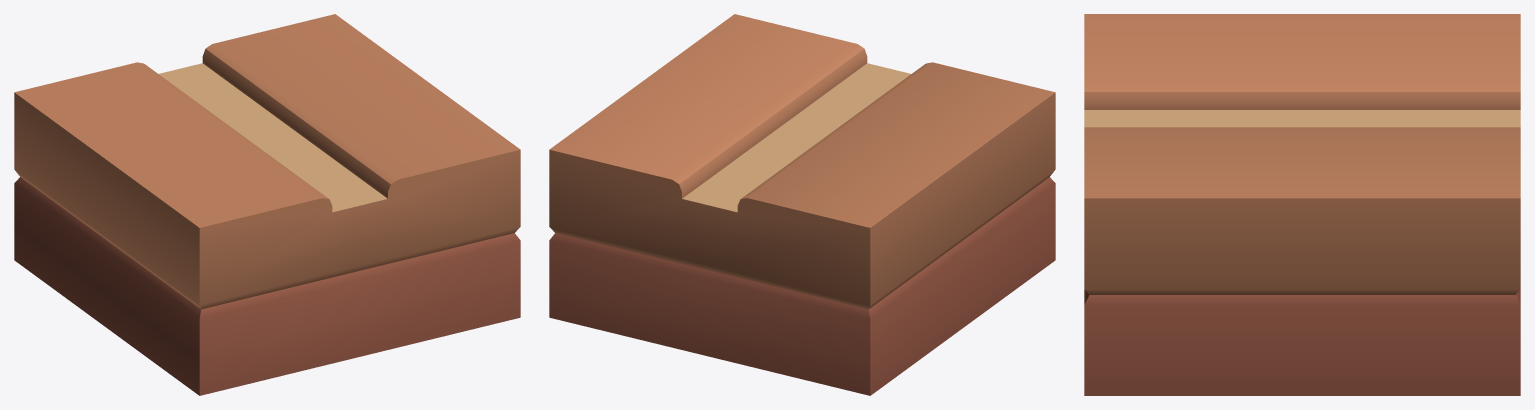
Rendered from kaykit-square-rock-roadb-detail.glb.
3 views of the same model, side by side, from view 1: azimuth 30°, elevation 25°; view 2: azimuth 150°, elevation 25°; view 3: azimuth 270°, elevation 25° (orthographic). The views are drawn at different scales.
Parts seen in each view (by area): view 1: square_rock_roadB_detail; view 2: square_rock_roadB_detail; view 3: square_rock_roadB_detail.
Part boxes in pixels (box(x1,y1,x2,y2)): square_rock_roadB_detail: box(14, 14, 520, 395); square_rock_roadB_detail: box(549, 14, 1055, 395); square_rock_roadB_detail: box(1084, 14, 1520, 395).
Bounding box in the file's own units: 2 × 0.9998 × 2.
